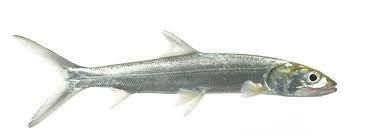Tenpounder: (17, 28, 337, 125)
